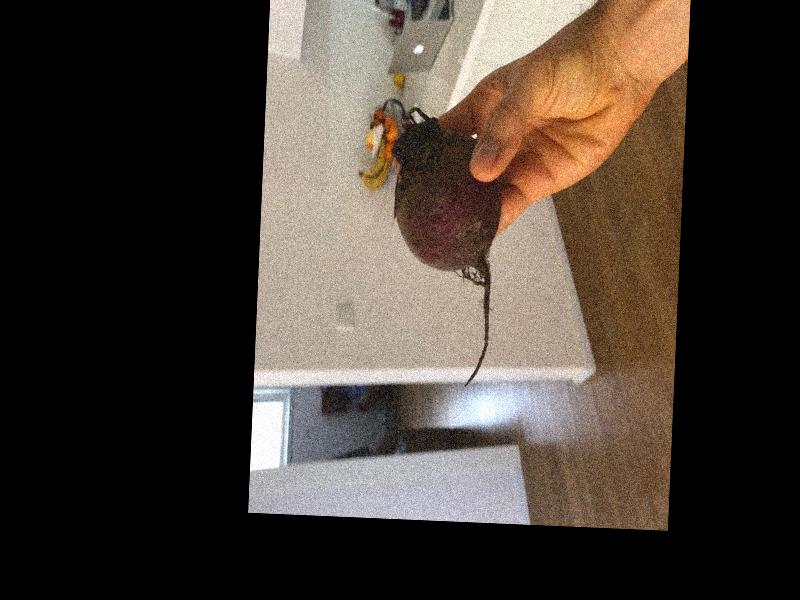Beet: (383, 107, 504, 388)
